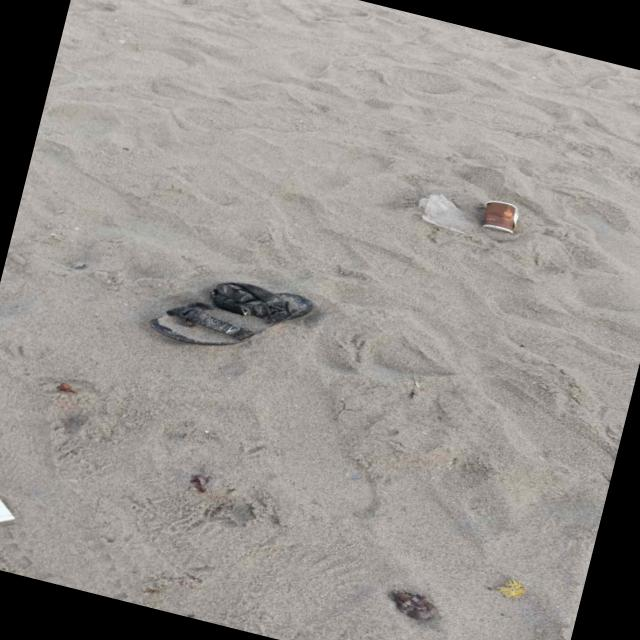dep: (148, 282, 313, 345)
ly_hop_giay: (482, 200, 518, 233)
nhua: (417, 193, 472, 233)
